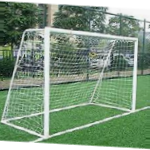goals: (1, 26, 140, 141)
